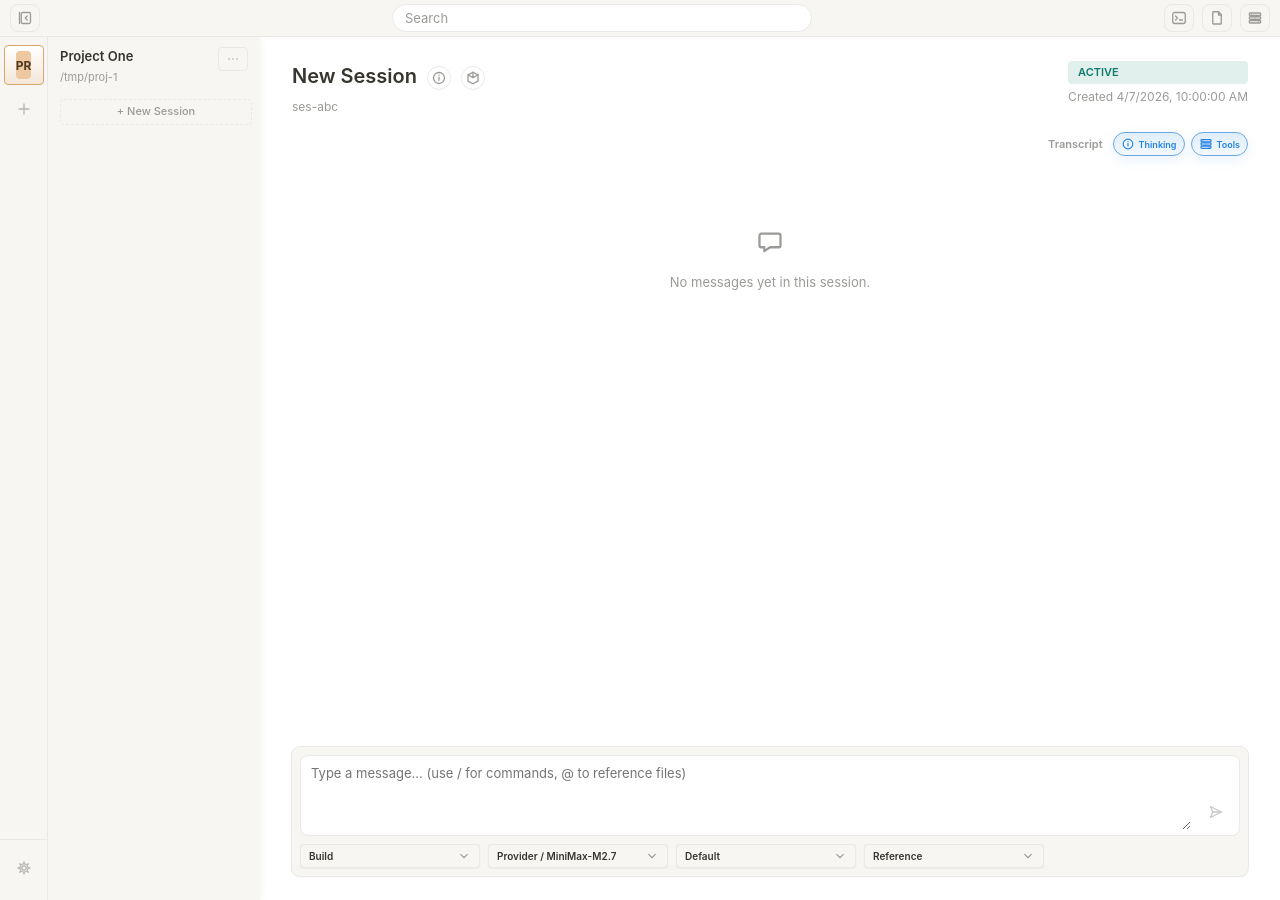
App › switches from context to files from the toolbar before closing on repeat
The width and height of the screenshot is (1280, 900).
Step 1. Click the button with test id "chat-session-context-btn" → coordinates (439, 78), box left=427, top=66, right=451, bottom=90
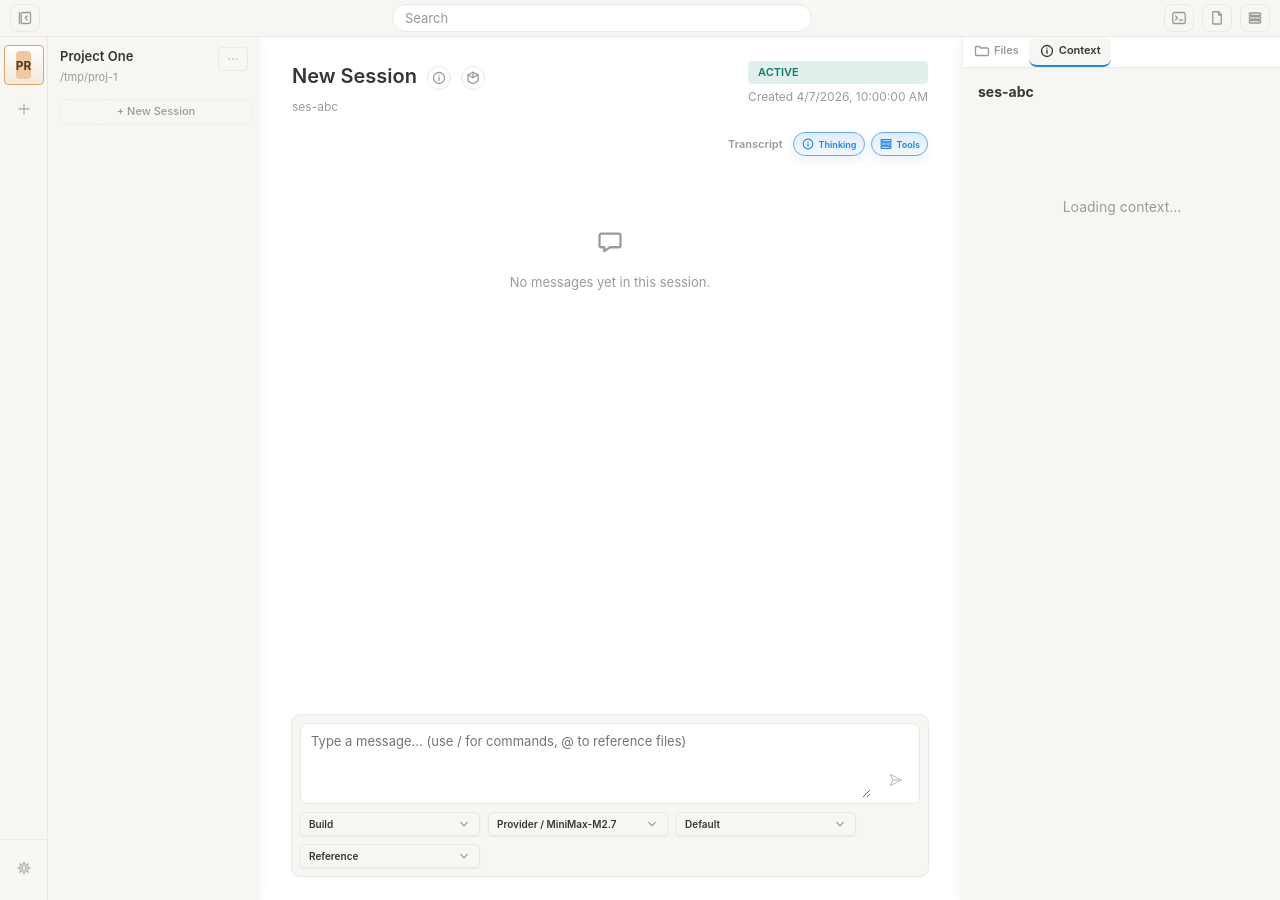
Now the element with test id "session-context-panel" is shown, box left=978, top=83, right=1181, bottom=215
Step 2. Click the button with test id "toolbar-file-toggle" → coordinates (1217, 18), box left=1202, top=4, right=1232, bottom=32
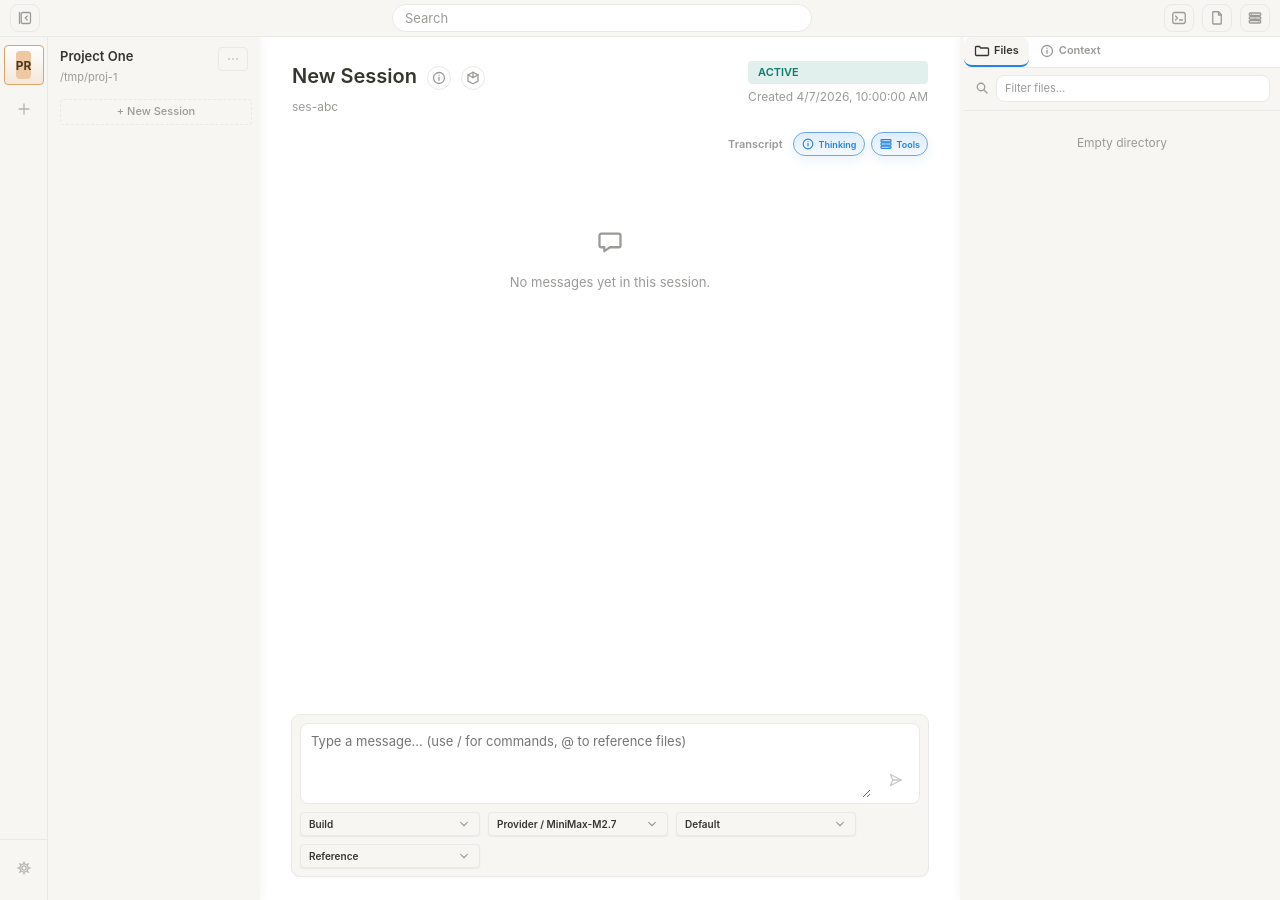
Now the element with test id "file-explorer" is shown, box left=964, top=67, right=1279, bottom=150
Now the element with test id "session-context-panel" is gone
Step 3. Click the button with test id "toolbar-file-toggle" → coordinates (1217, 18), box left=1202, top=4, right=1232, bottom=32
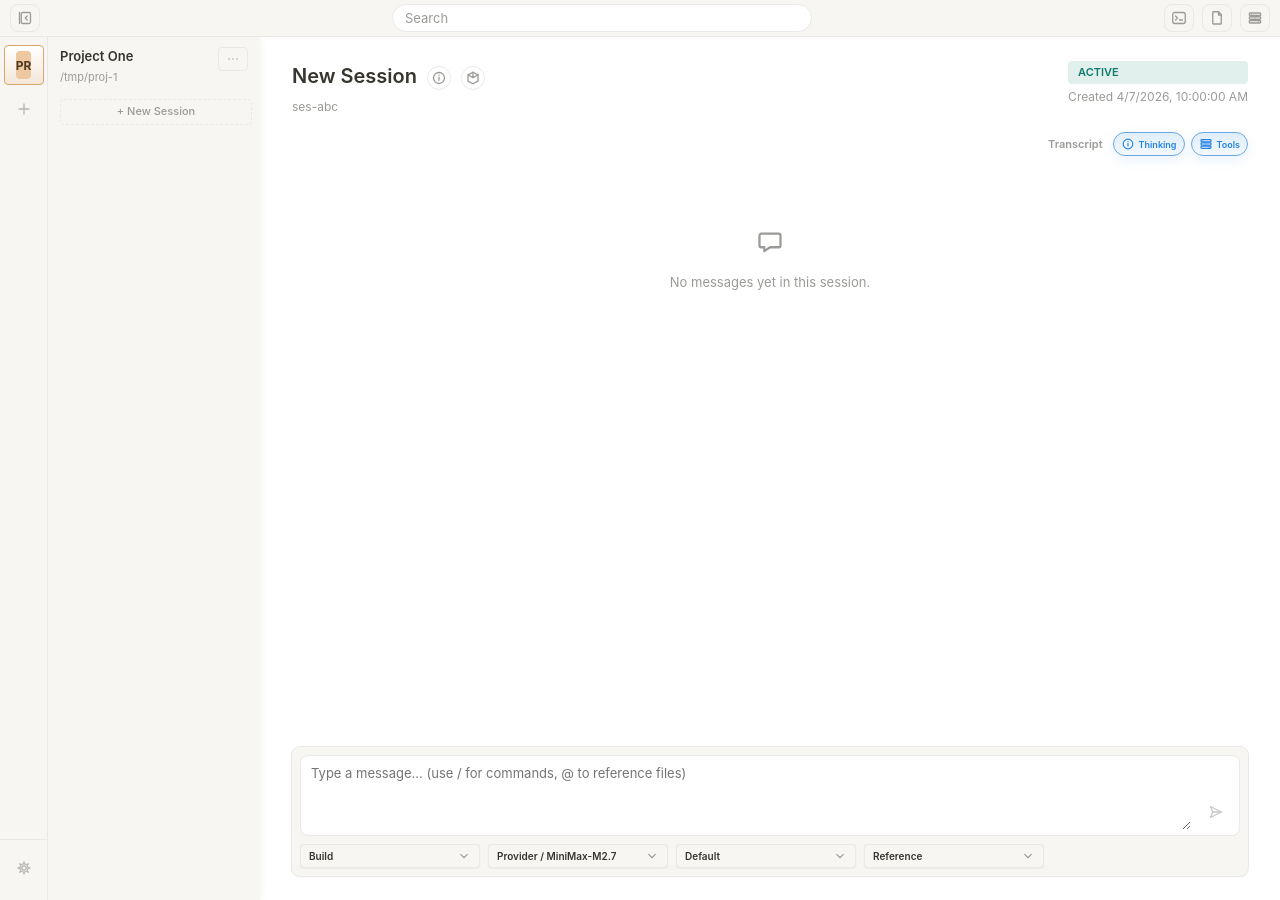
Now the element with test id "file-explorer" is gone
